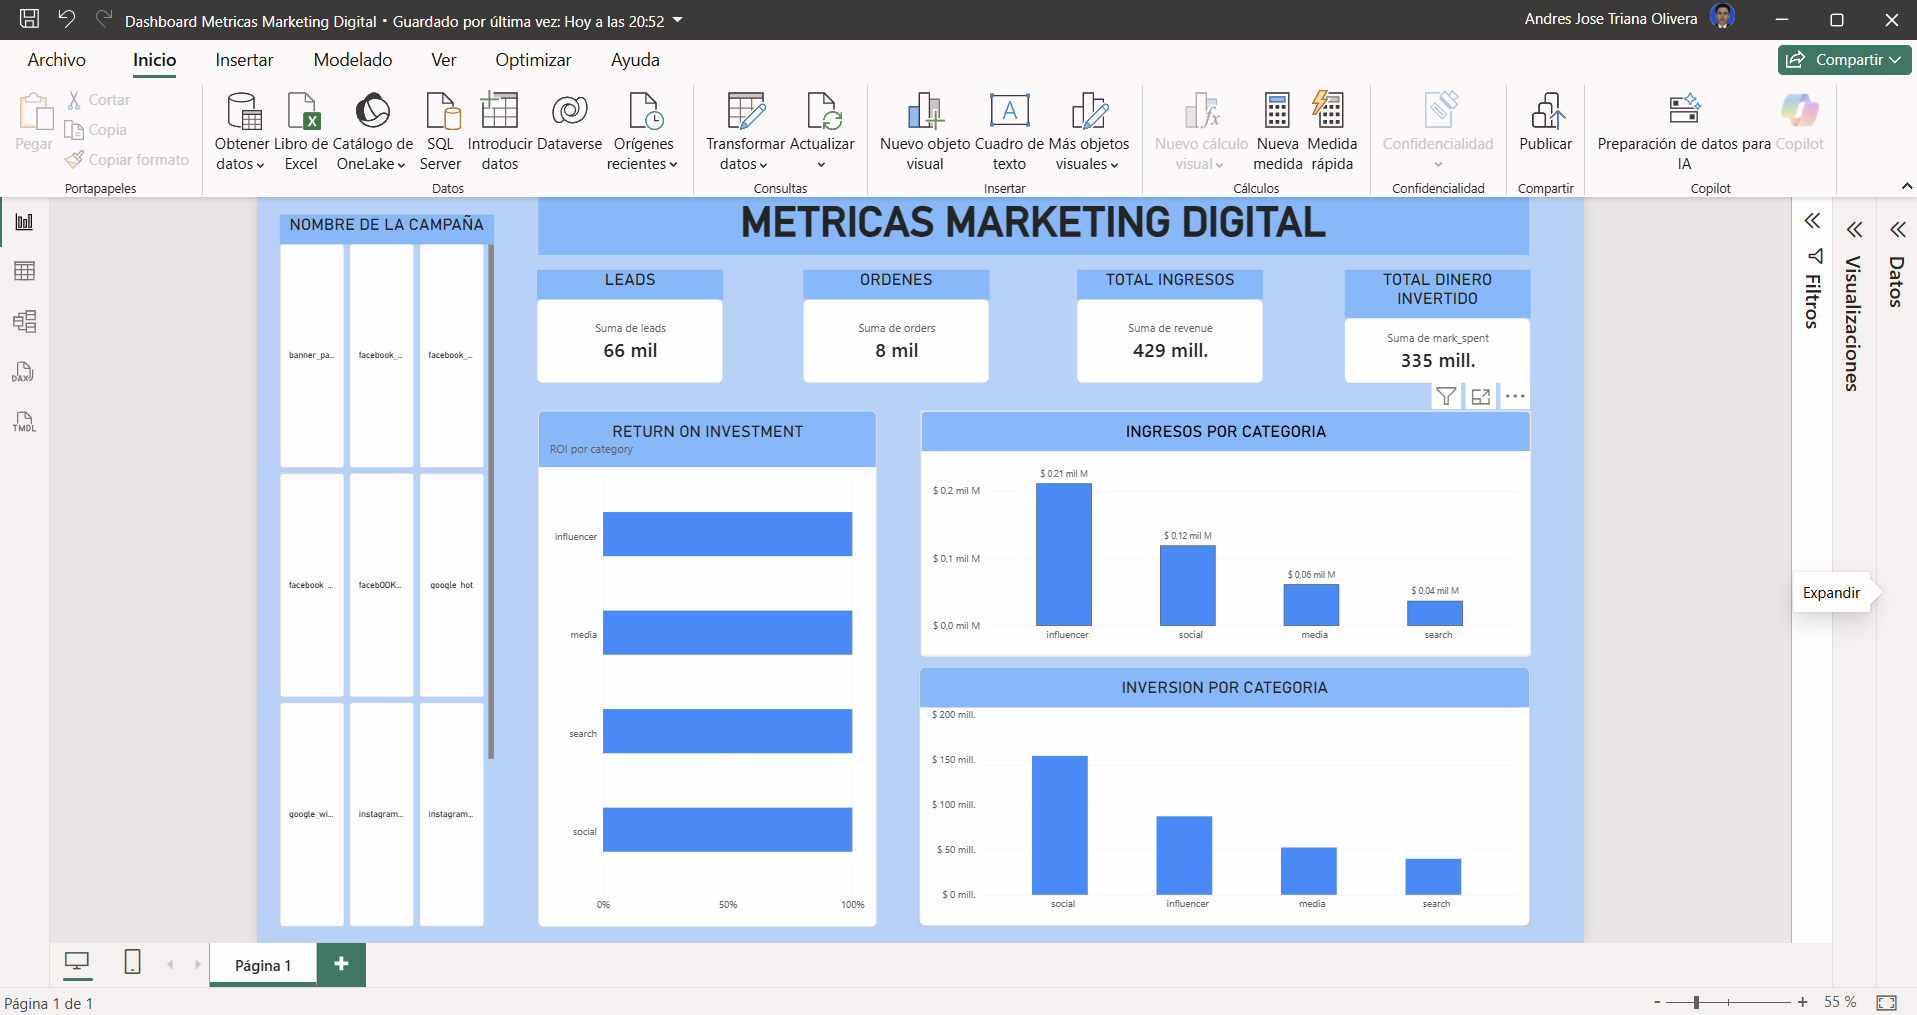

This screenshot's page, from the dashboard's own definition file:
{"tool":"powerbi","page":{"name":"Página 1","canvas":[1920,1080],"ordinal":0},"visuals":[{"type":"cardVisual","title":"TOTAL DINERO INVERTIDO","fields":{"Data":["Sum(Marketing.mark_spent)"]},"box":[1574.6,105,269.6,164.7],"z":0},{"type":"cardVisual","title":"TOTAL INGRESOS","fields":{"Data":["Sum(Marketing.revenue)"]},"box":[1187.7,105,269.6,164.7],"z":1000},{"type":"clusteredColumnChart","title":"INVERSION POR CATEGORIA","fields":{"Category":["Marketing.category"],"Y":["Marketing.Inversion_mark"]},"box":[959.2,681.3,883,374.6],"z":2000},{"type":"clusteredColumnChart","title":"INGRESOS POR CATEGORIA","fields":{"Category":["Marketing.category"],"Y":["Sum(Marketing.revenue)"]},"box":[961.2,308.7,883,356.1],"z":3000},{"type":"cardVisual","title":"ORDENES","fields":{"Data":["Sum(Marketing.orders)"]},"box":[790.4,105,269.6,164.7],"z":4000},{"type":"cardVisual","title":"LEADS","fields":{"Data":["Sum(Marketing.leads)"]},"box":[405.5,105,269.6,164.7],"z":5000},{"type":"hundredPercentStackedBarChart","title":"RETURN ON INVESTMENT","fields":{"Category":["Marketing.category"],"Y":["Marketing.ROI"]},"box":[407.5,308.7,489.9,747.2],"z":5001},{"type":"advancedSlicerVisual","title":"NOMBRE DE LA CAMPAÑA","fields":{"Values":["Marketing.campaign_name"]},"box":[32.9,24.7,310.8,1031.2],"z":5003},{"type":"textbox","title":"METRICAS MARKETING DIGITAL","box":[407.5,0,1434.7,105],"z":5004}]}

Visuals, with their boxes on the page's 1920x1080 design canvas (x1, y1, x2, y2). These are canvas units, not pixel positions in the 1917x1015 screenshot, which may show the page scaled, cropped or inside an application window:
"TOTAL DINERO INVERTIDO" cardVisual: bbox=(1575, 105, 1844, 270)
"TOTAL INGRESOS" cardVisual: bbox=(1188, 105, 1457, 270)
"INVERSION POR CATEGORIA" clusteredColumnChart: bbox=(959, 681, 1842, 1056)
"INGRESOS POR CATEGORIA" clusteredColumnChart: bbox=(961, 309, 1844, 665)
"ORDENES" cardVisual: bbox=(790, 105, 1060, 270)
"LEADS" cardVisual: bbox=(406, 105, 675, 270)
"RETURN ON INVESTMENT" hundredPercentStackedBarChart: bbox=(408, 309, 897, 1056)
"NOMBRE DE LA CAMPAÑA" advancedSlicerVisual: bbox=(33, 25, 344, 1056)
"METRICAS MARKETING DIGITAL" textbox: bbox=(408, 0, 1842, 105)
